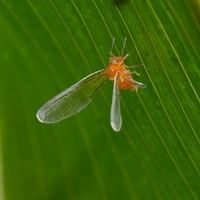insect: (36, 37, 145, 131)
